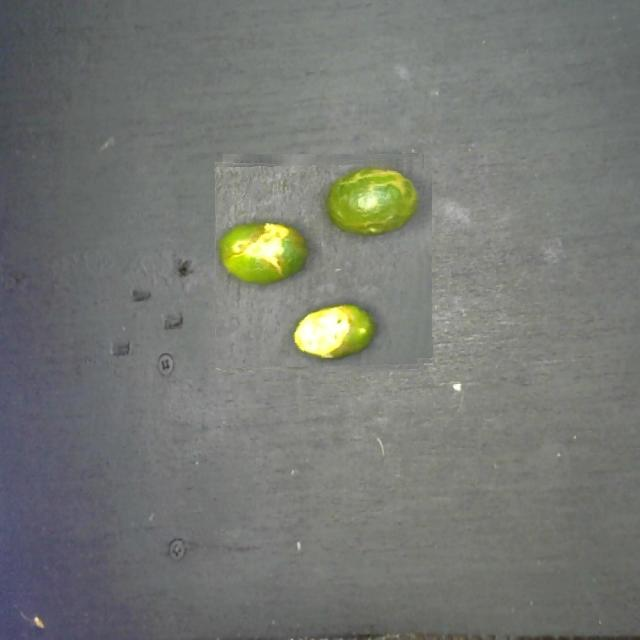biodegradable: (216, 156, 431, 370)
